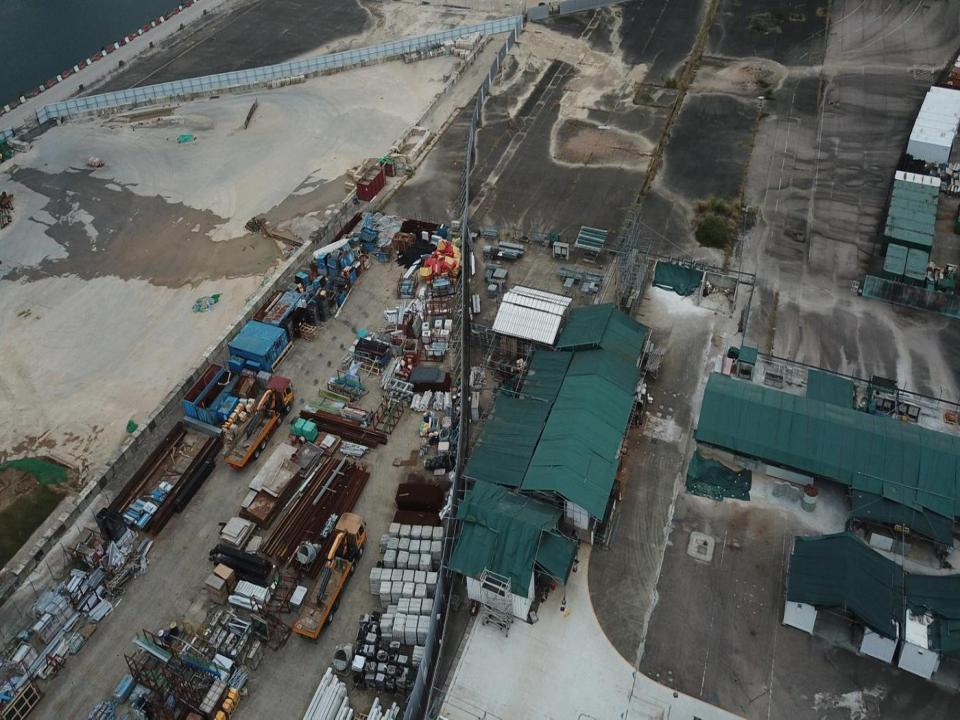truck: (290, 508, 370, 643), (222, 374, 296, 472)
